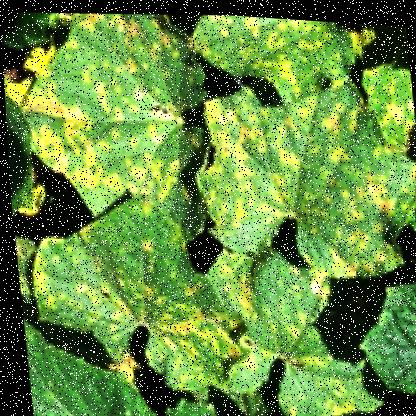DownyMildew: (196, 69, 400, 267), (27, 209, 219, 370), (19, 13, 171, 208), (186, 10, 343, 73)
